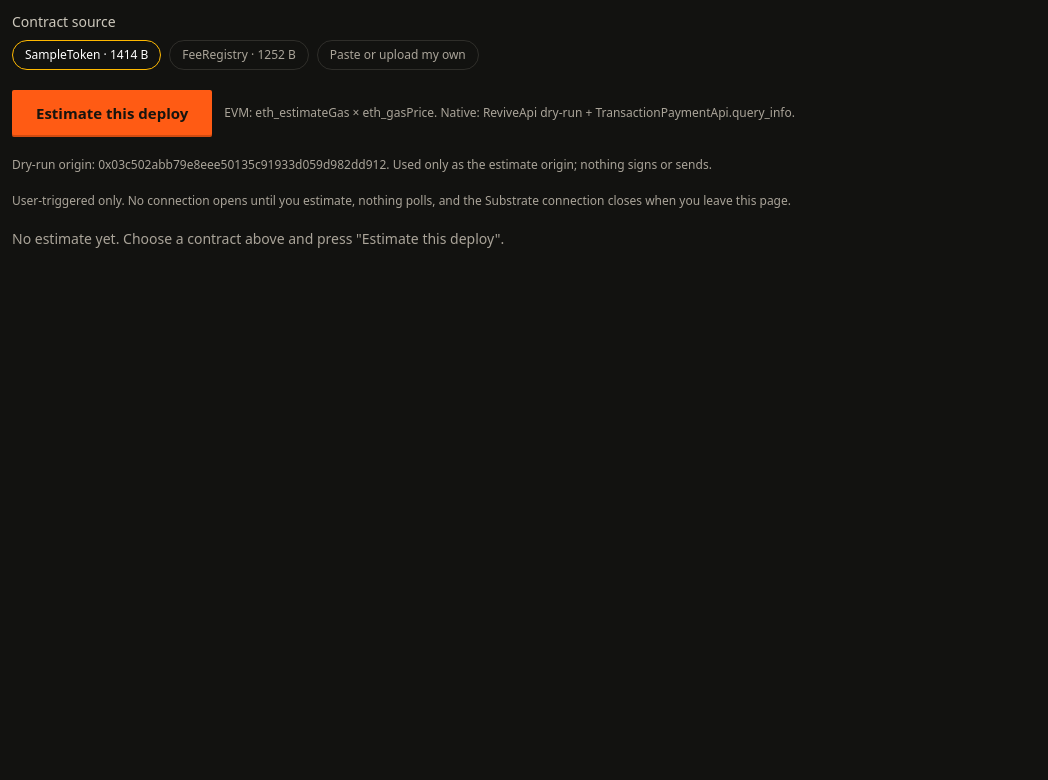
it: DeployCostCalculator › rejects non-hex paste input without estimating
Click the button "Paste or upload my own" at (398, 55), box top-left (317, 40), bottom-right (479, 70)
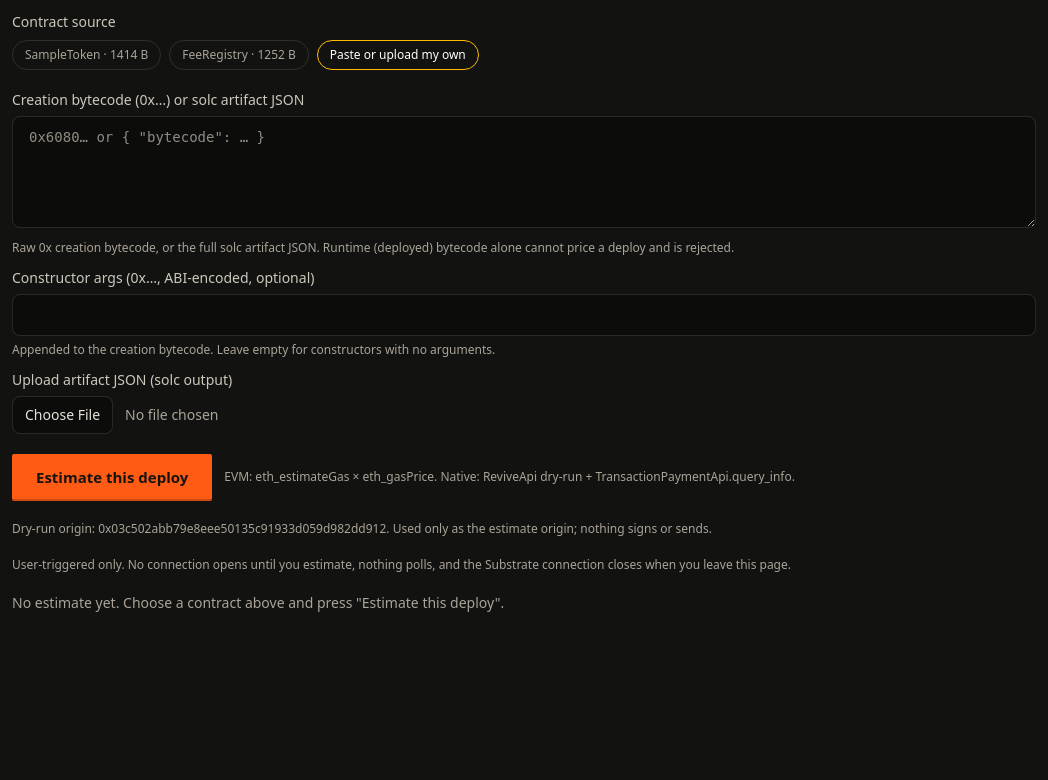
Type "hello" into the text box labelled "Creation bytecode (0x…) or solc artifact JSON" at (524, 172), box top-left (12, 116), bottom-right (1036, 228)
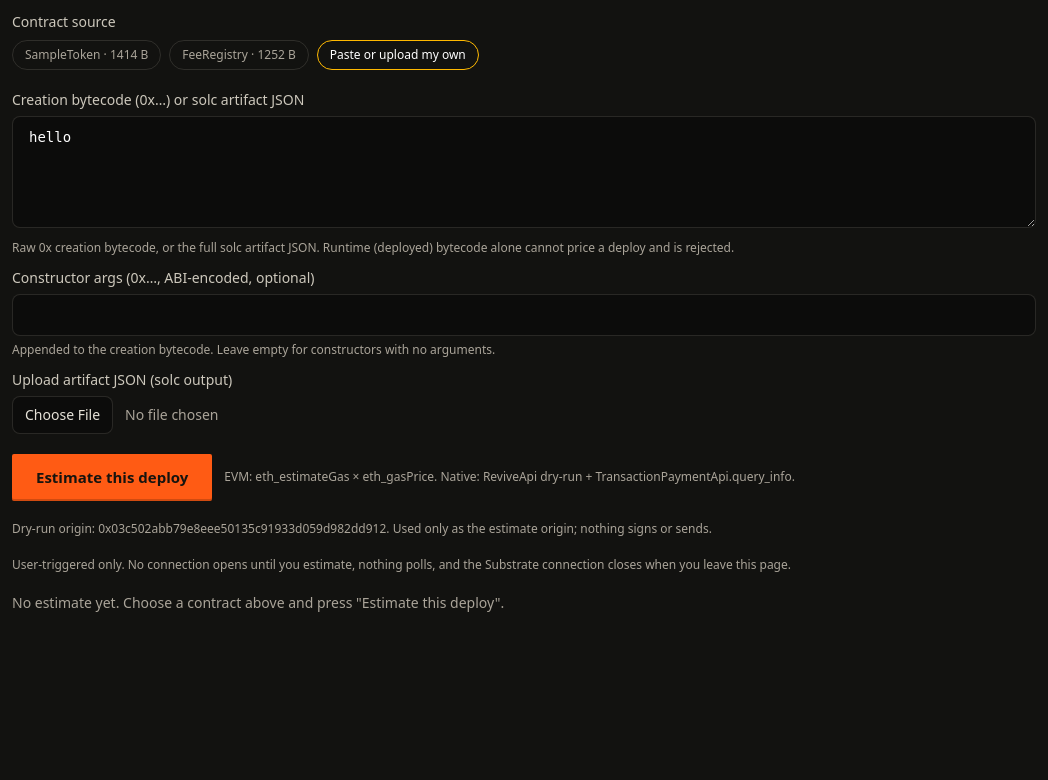
Click the button "Estimate this deploy" at (112, 477), box top-left (12, 454), bottom-right (212, 500)
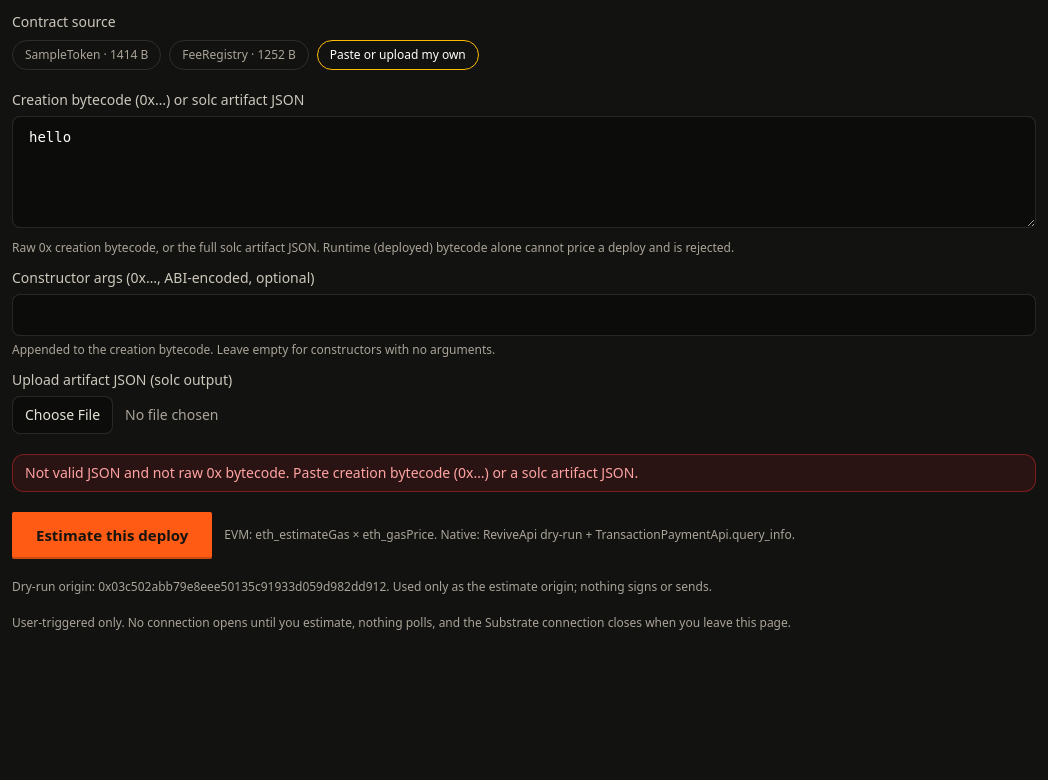
Check: the message shows "Not valid JSON and not raw 0x bytecode", box top-left (25, 463), bottom-right (638, 482)
